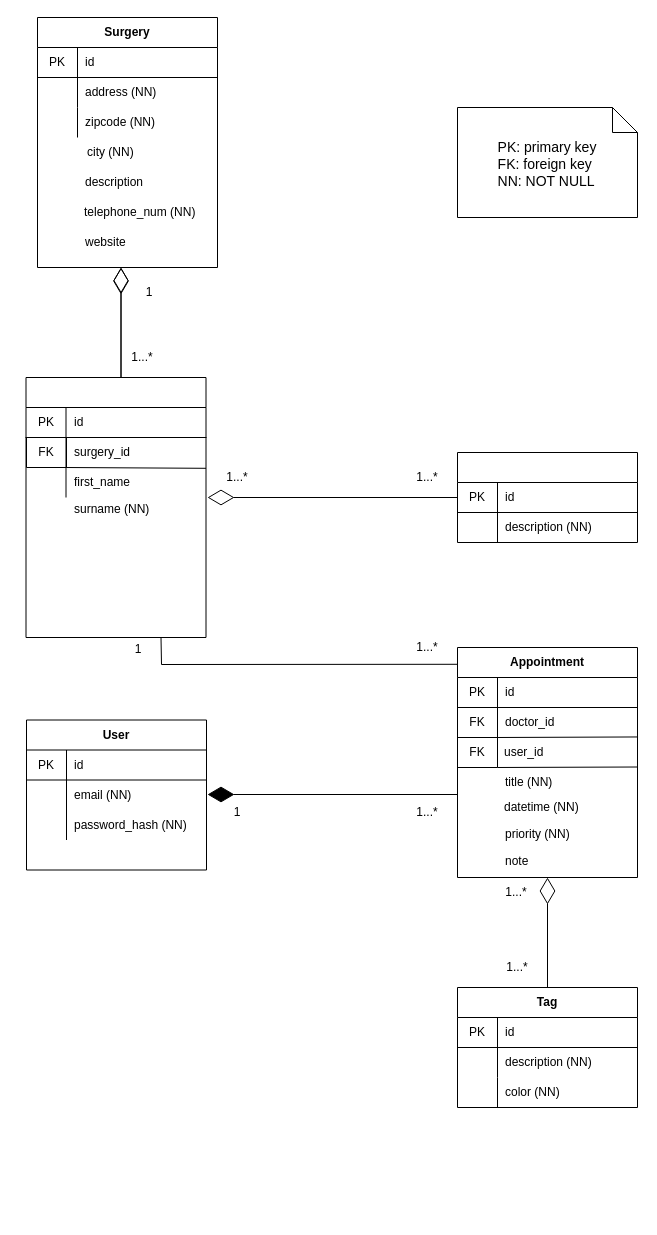
This 657x1235 diagram has some shape labels left out. Each missing label, with the box of its shape:
Doctor: (25, 376, 206, 638)
Specialization: (456, 452, 638, 542)
